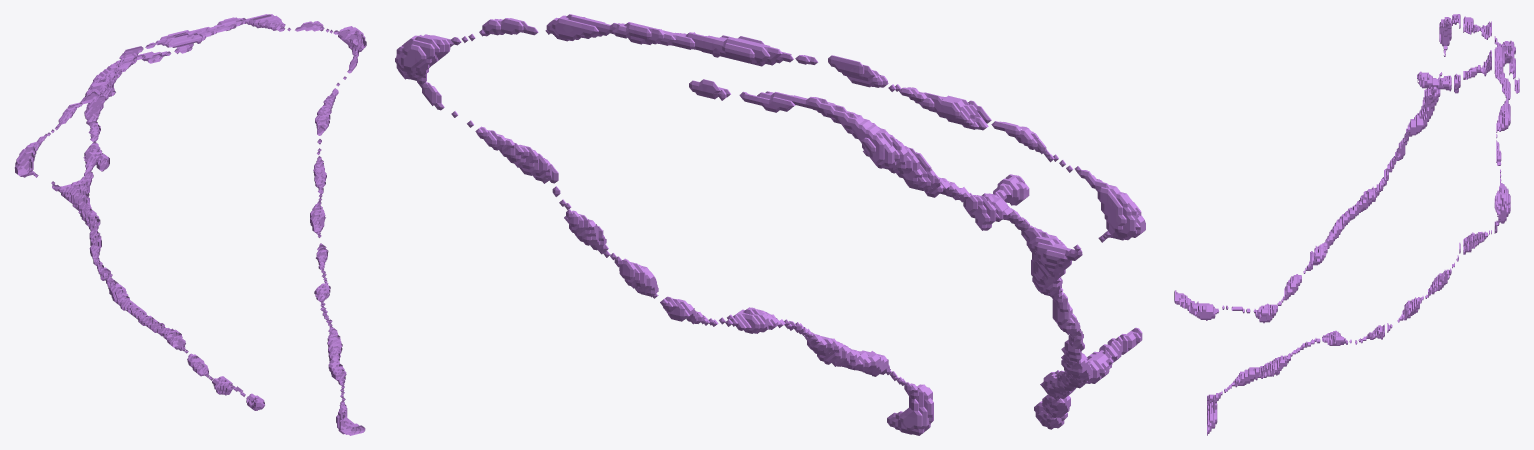
The model's file is SVV_SIBVL.gltf.
3 renders of one model, left to right at view 1: azimuth 30°, elevation 25°; view 2: azimuth 150°, elevation 25°; view 3: azimuth 270°, elevation 25°, orthographic. The views are drawn at different scales.
Parts seen in each view (by area): view 1: SIBVL; view 2: SIBVL; view 3: SIBVL.
Part boxes in pixels (x1,y1,x2,y2): SIBVL: [14, 14, 366, 435]; SIBVL: [395, 14, 1145, 435]; SIBVL: [1174, 14, 1519, 435].
Size of the model in its own units: 100916 by 81443 by 71977.
